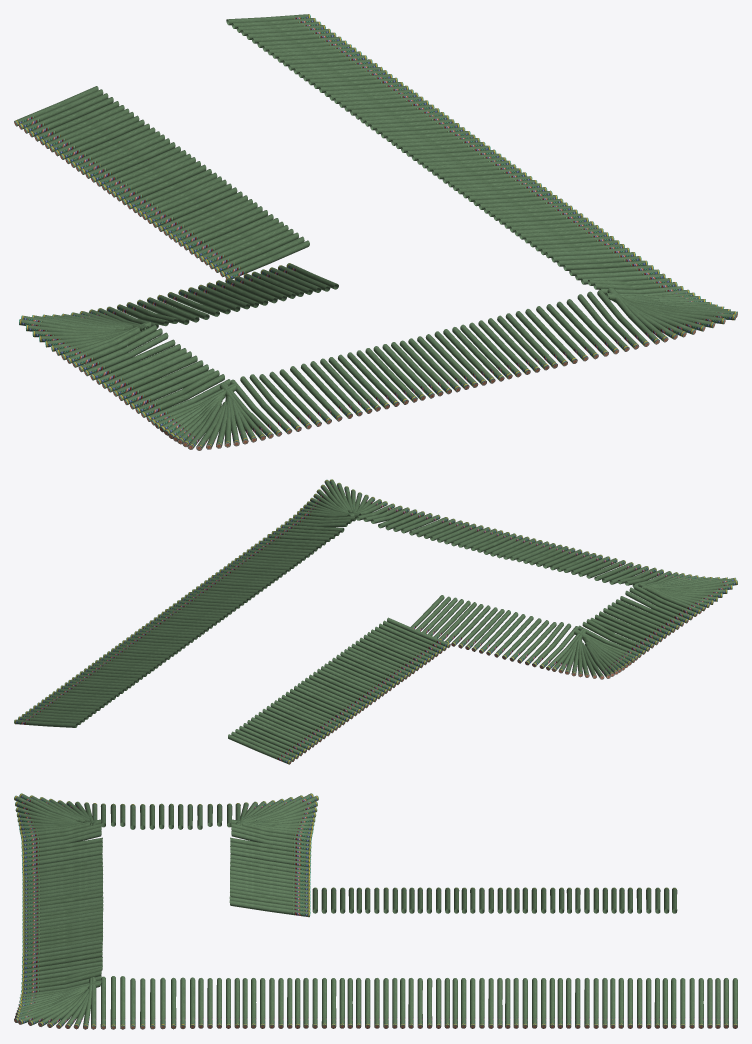
Rendered from SM_Seokkalae05D.fbx.
3 views of the same model, one above another, from view 1: azimuth 30°, elevation 25°; view 2: azimuth 150°, elevation 25°; view 3: azimuth 270°, elevation 25° (orthographic). The views are drawn at different scales.
Parts seen in each view (by area): view 1: SM_Seokkalae05D; view 2: SM_Seokkalae05D; view 3: SM_Seokkalae05D.
Boxes of the visible parts, left/top/right/bottom form: SM_Seokkalae05D: left=14, top=14, right=737, bottom=450; SM_Seokkalae05D: left=14, top=479, right=737, bottom=764; SM_Seokkalae05D: left=14, top=793, right=737, bottom=1029.
Bounding box in the file's own units: 1355 × 1817 × 56.63.
